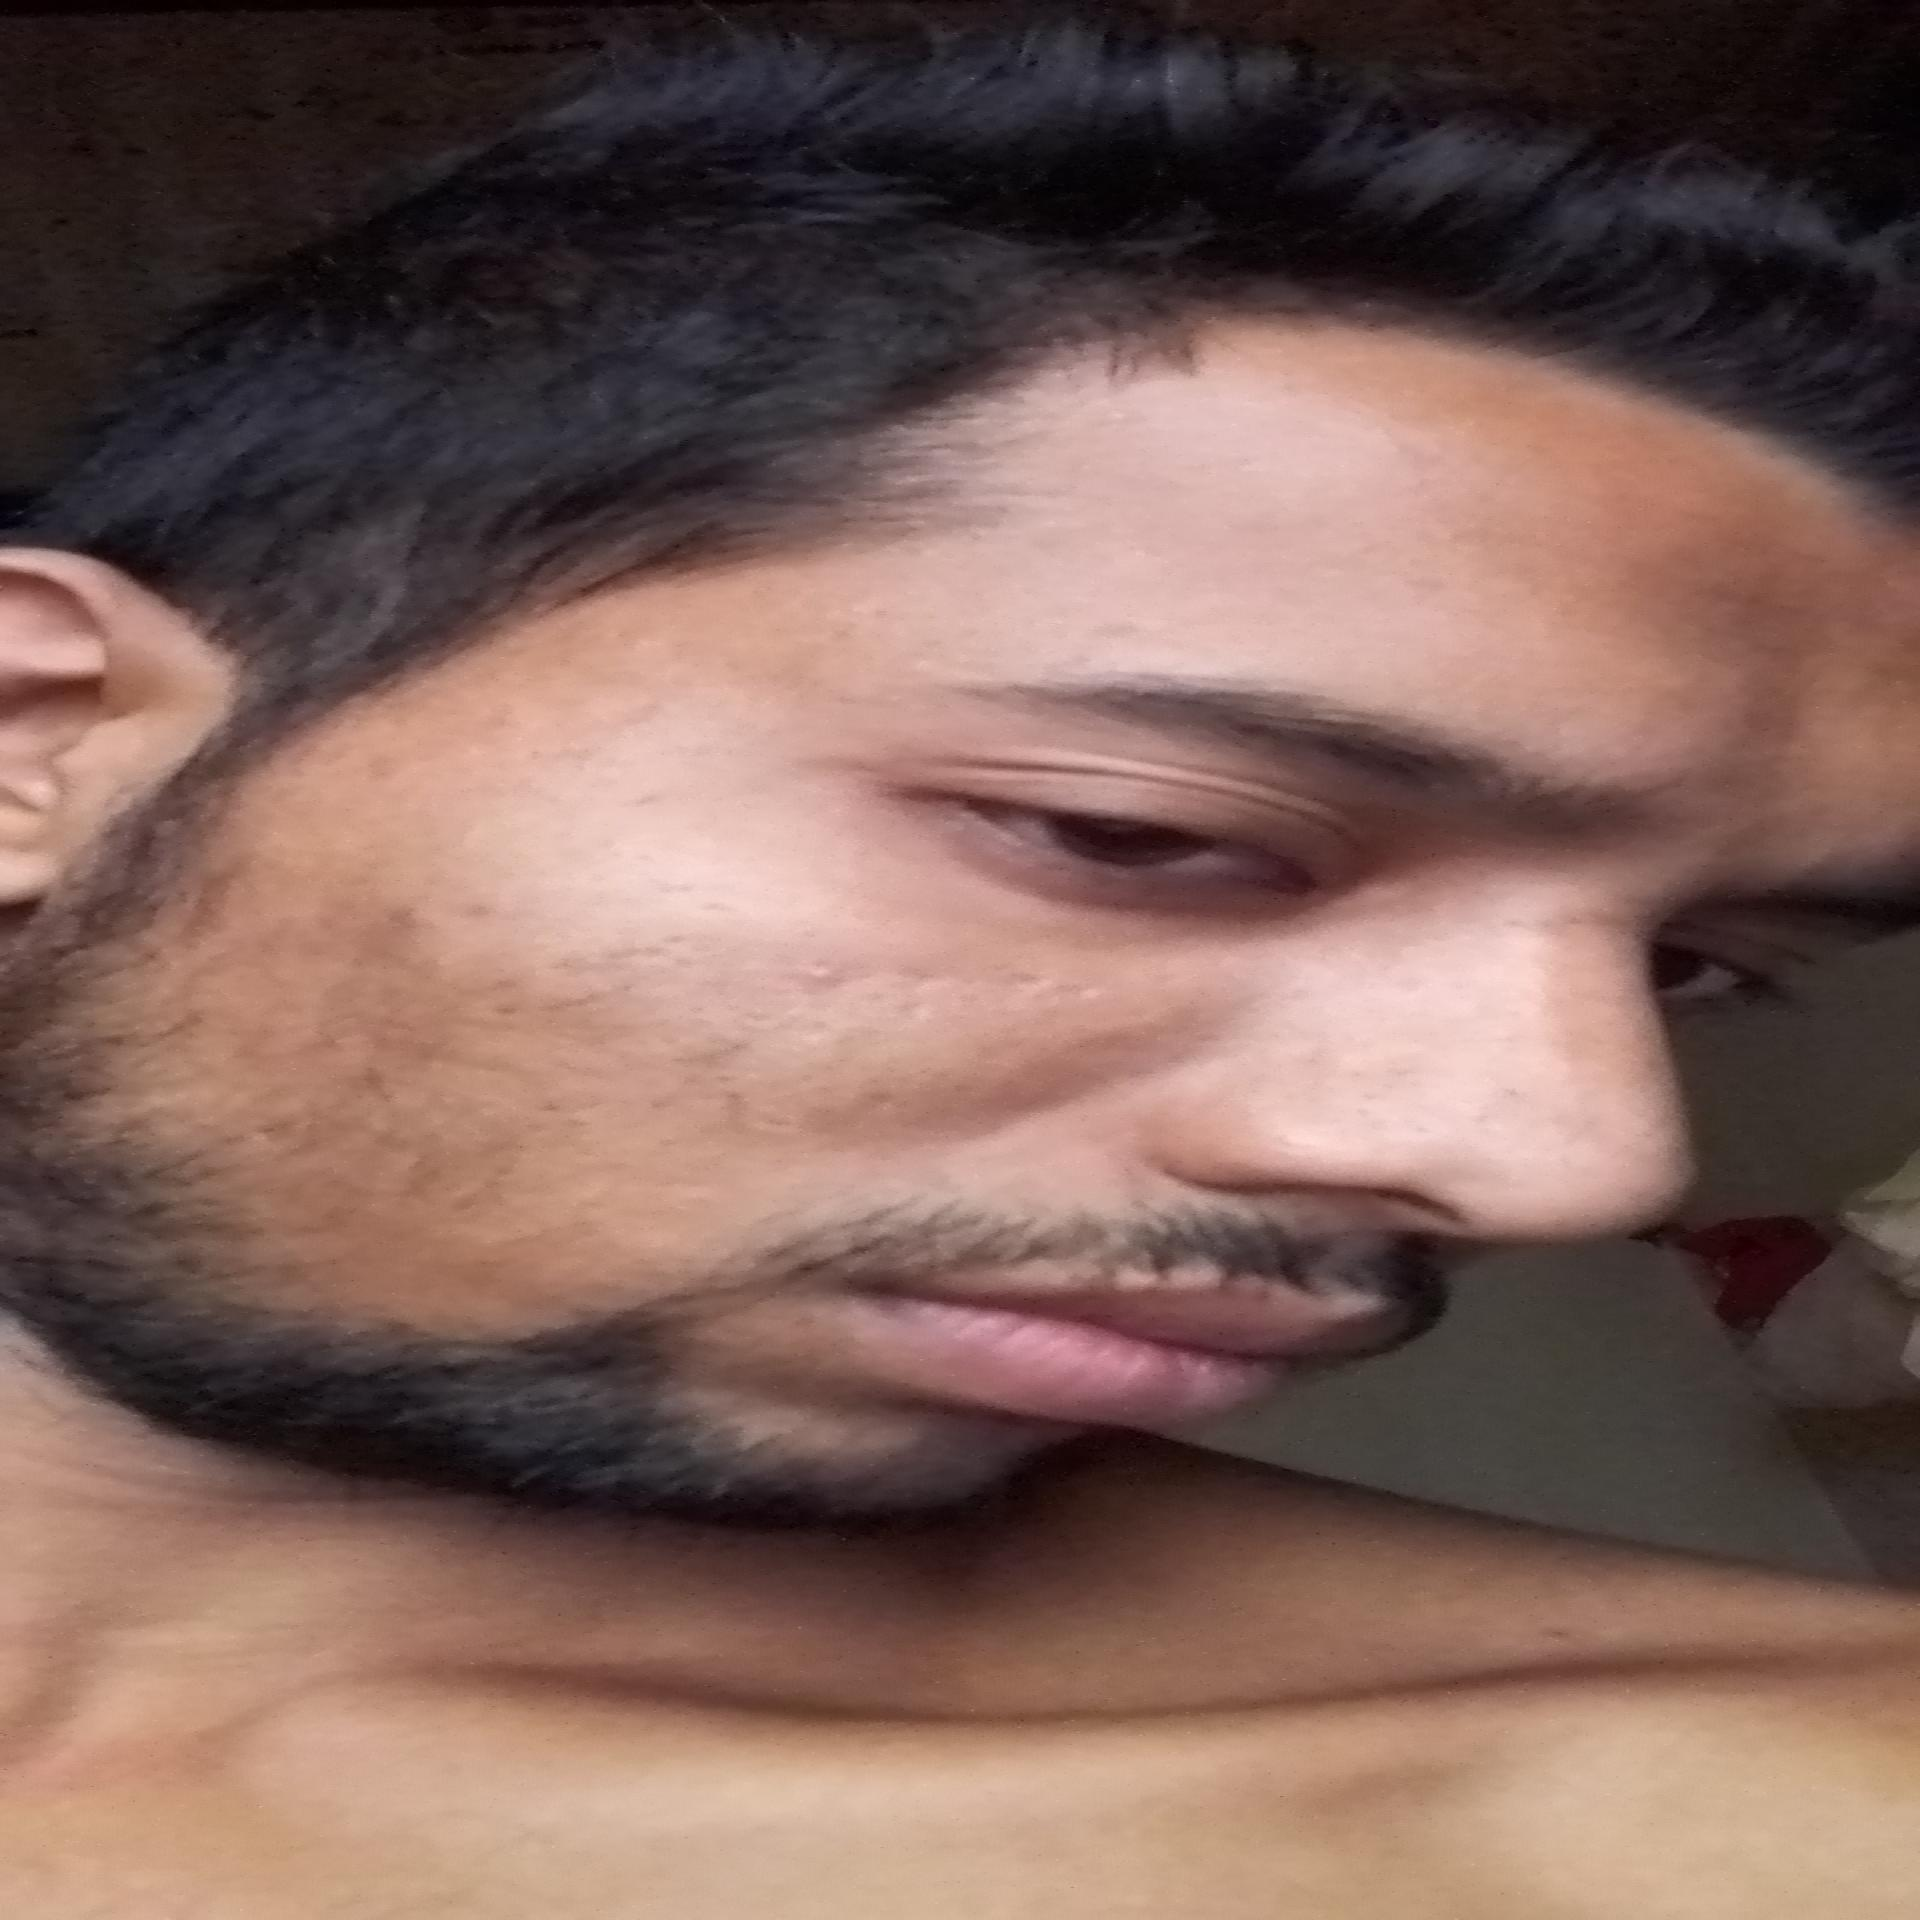Englarged Pores: (728, 946, 1138, 1101), (1306, 1051, 1625, 1169), (594, 856, 784, 932)
